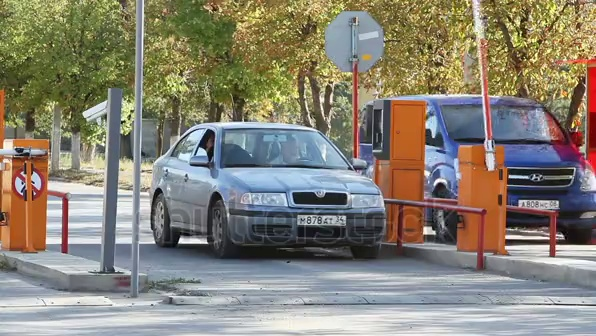licenseplate: (299, 212, 347, 231), (520, 199, 559, 209)
